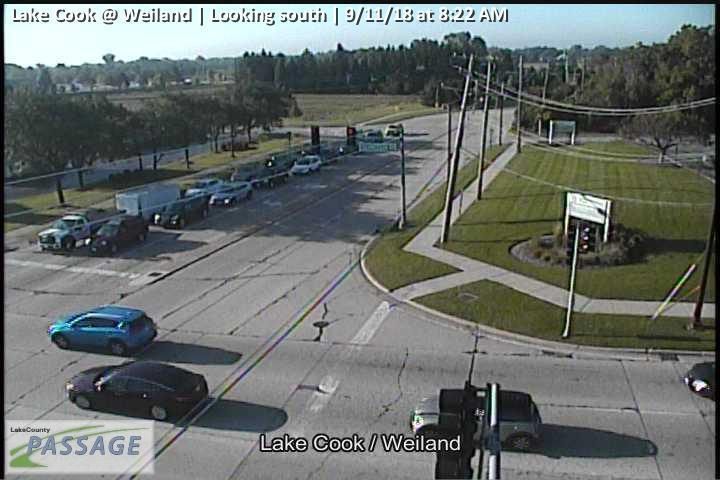SUV: (64, 362, 209, 420), (47, 306, 158, 358), (208, 181, 253, 207)
Sedan: (84, 215, 150, 260), (150, 195, 208, 228), (251, 167, 288, 188), (290, 154, 321, 175)
Truck: (37, 181, 182, 252), (408, 388, 541, 449)
